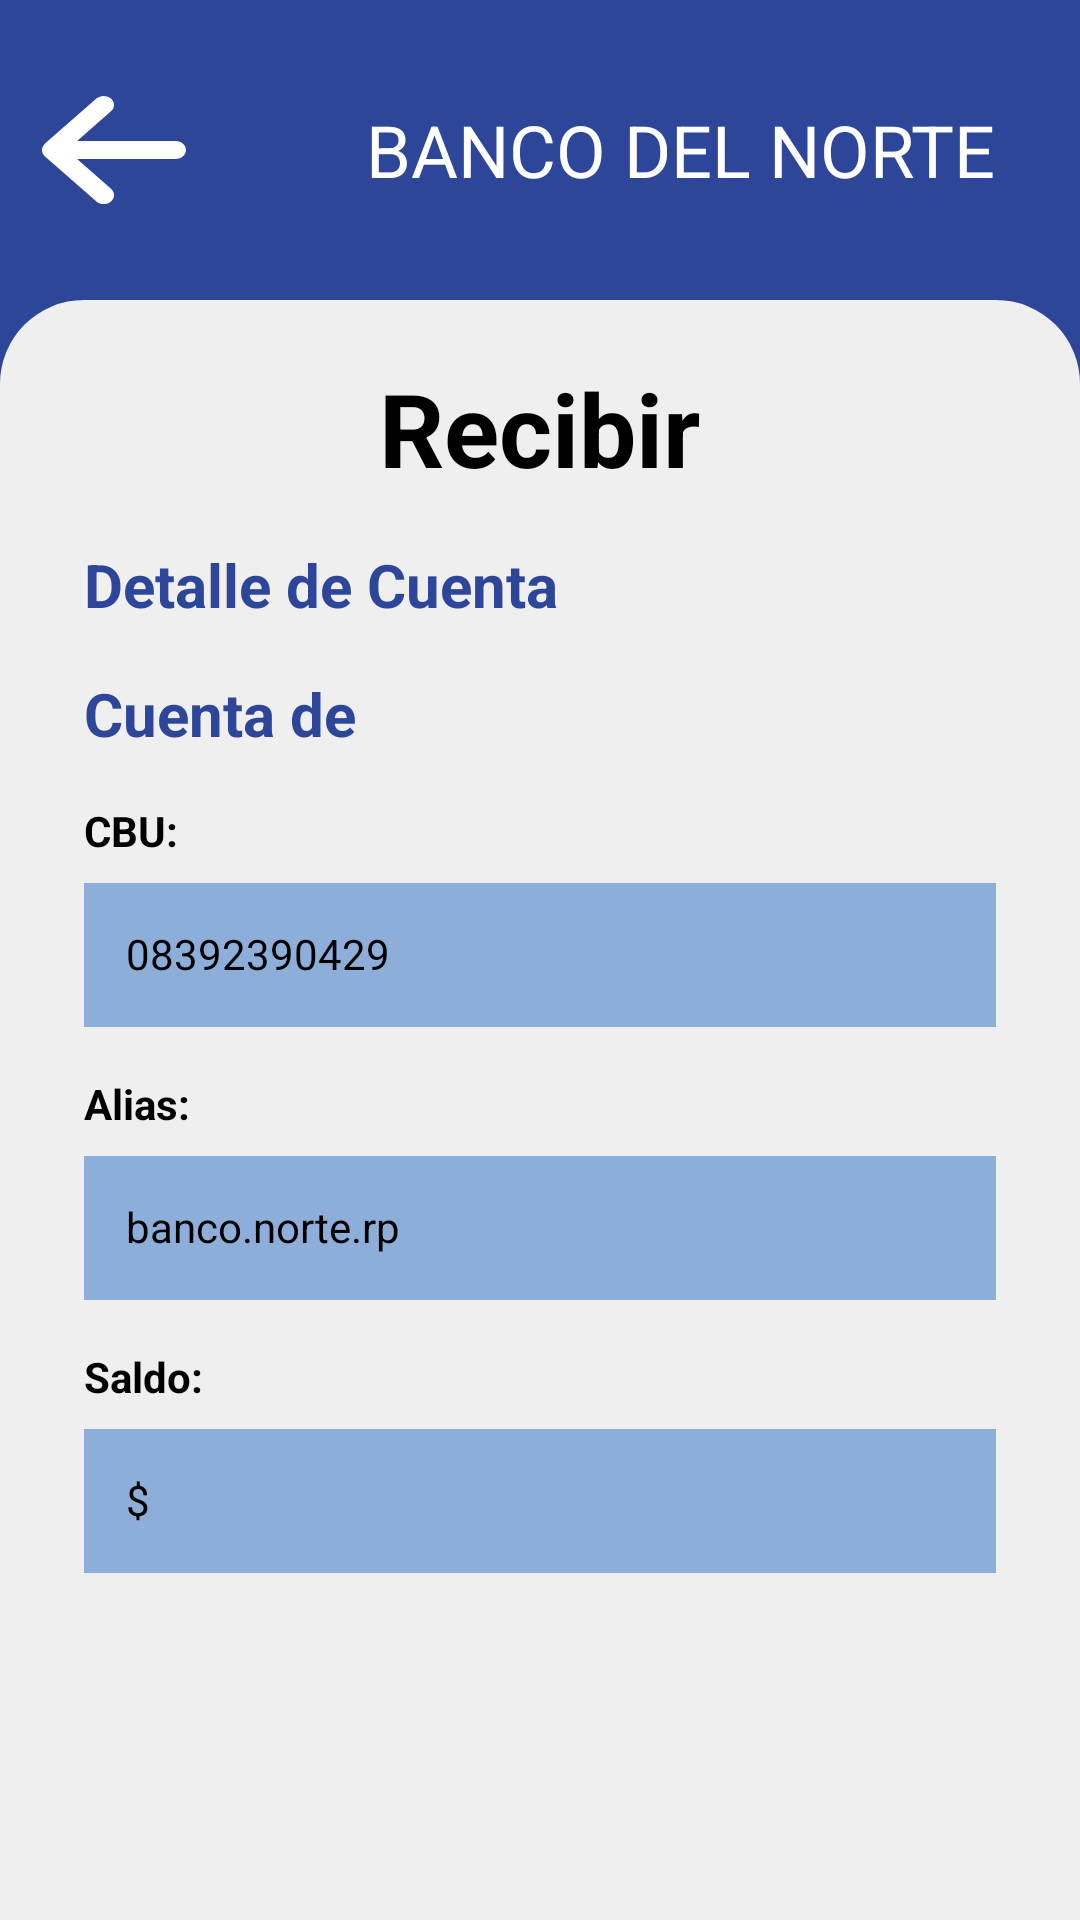

Locate icon controls on the screen. Image size 1080×1920, boxes as (x1, y1, x2, y2).
Volver: (42, 96, 186, 204)
